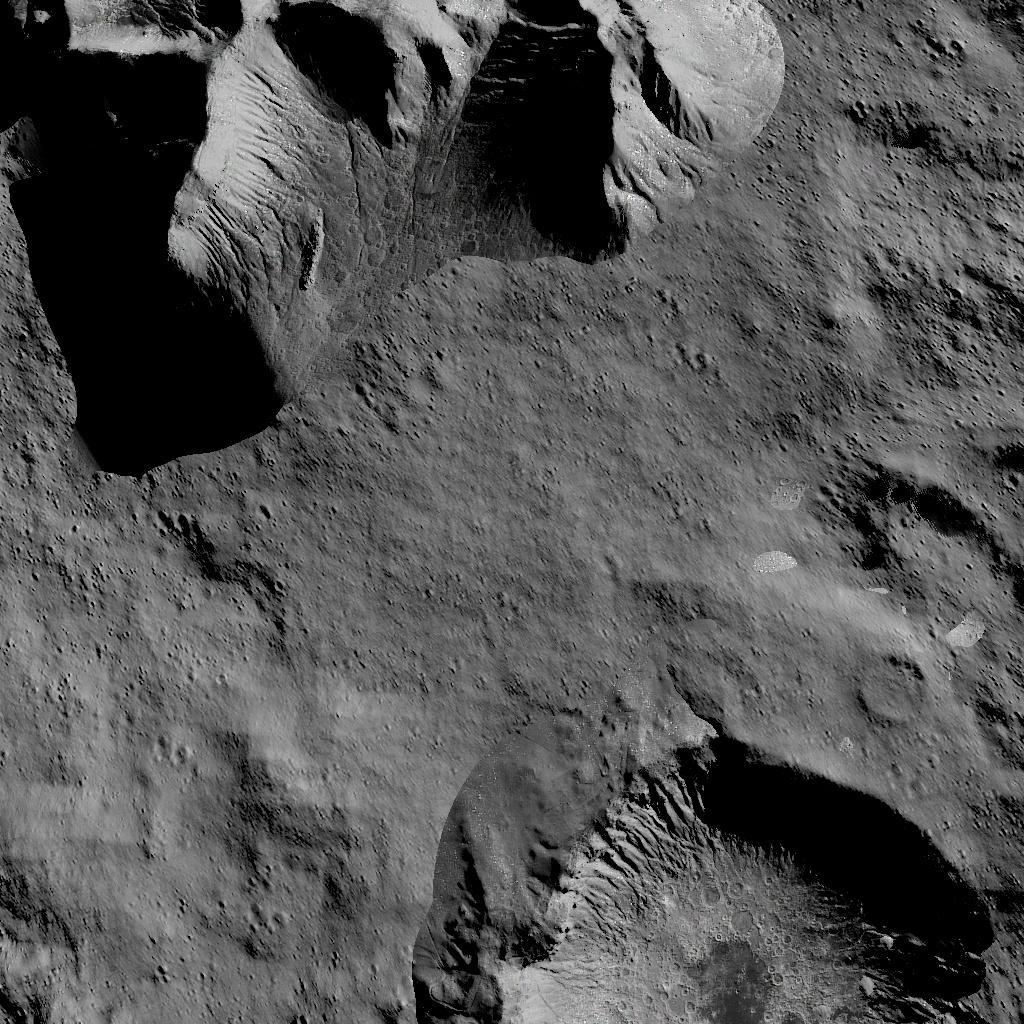Boulders: (4, 0, 788, 495)
Crater: (430, 710, 1024, 1024), (829, 442, 1024, 626), (0, 876, 97, 1024)
Plan surface: (24, 536, 400, 844), (827, 0, 1024, 390), (442, 518, 810, 695), (133, 872, 398, 1024)
